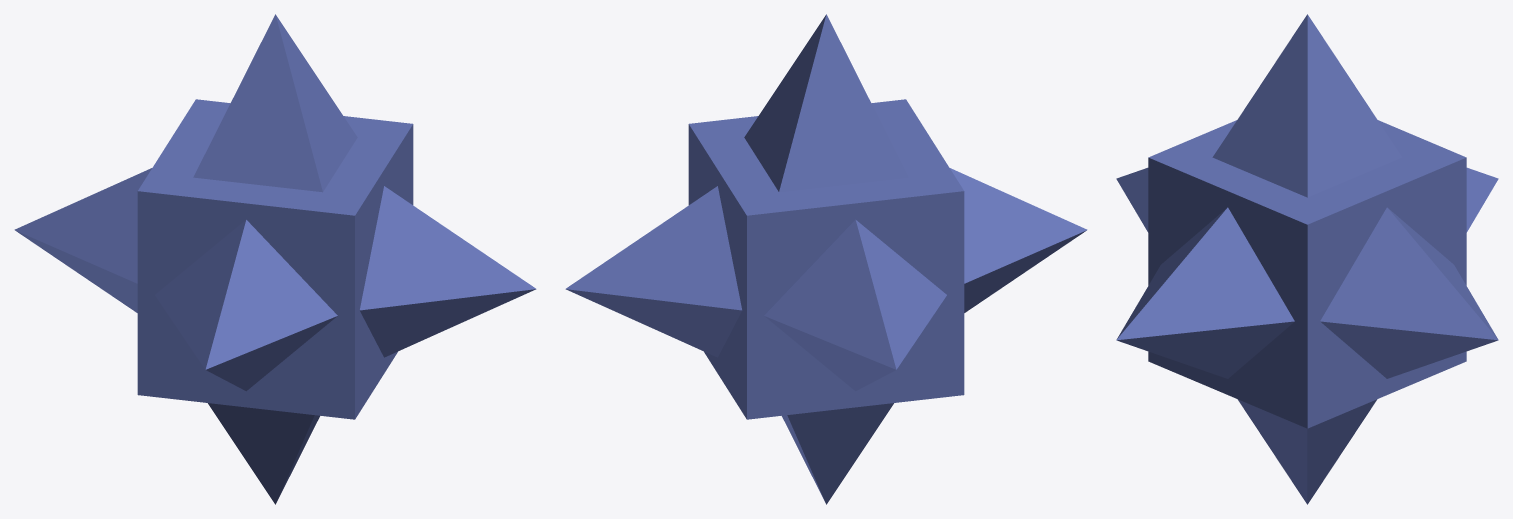
The model's file is crystal.fbx.
3 views of the same model, side by side, from view 1: azimuth 30°, elevation 25°; view 2: azimuth 150°, elevation 25°; view 3: azimuth 270°, elevation 25° (orthographic).
Visible parts, largest first — view 1: pCube3; view 2: pCube3; view 3: pCube3.
Part boxes in pixels (x1=…): pCube3: x1=14, y1=14, x2=536, y2=504; pCube3: x1=565, y1=14, x2=1087, y2=504; pCube3: x1=1116, y1=14, x2=1498, y2=504.
Bounding box in the file's own units: 1.7 × 2.41 × 1.7.
